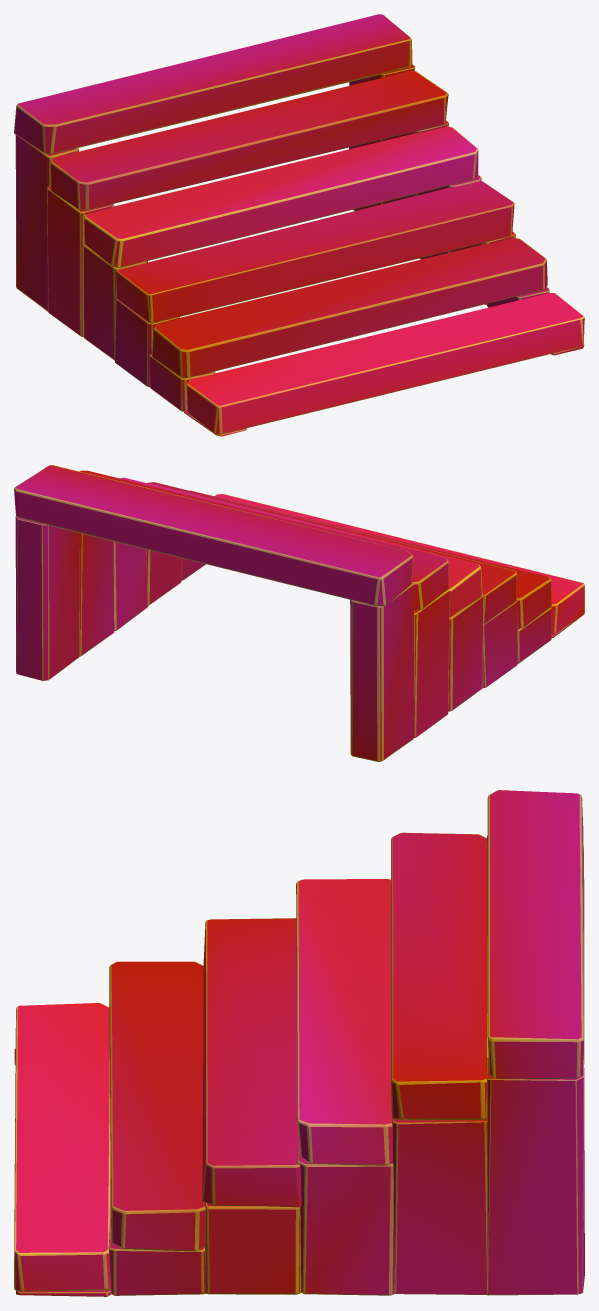
The model's file is SM_Stair.fbx.
3 renders of one model, top to bottom at view 1: azimuth 30°, elevation 25°; view 2: azimuth 150°, elevation 25°; view 3: azimuth 270°, elevation 25°, orthographic. The views are drawn at different scales.
Parts seen in each view (by area): view 1: SM_Stair; view 2: SM_Stair; view 3: SM_Stair.
Part boxes in pixels (x1=…): SM_Stair: x1=14, y1=14, x2=584, y2=436; SM_Stair: x1=14, y1=465, x2=584, y2=761; SM_Stair: x1=14, y1=790, x2=584, y2=1296.
Size of what is drawn, in the model's own units: 194 by 202 by 96.97.
